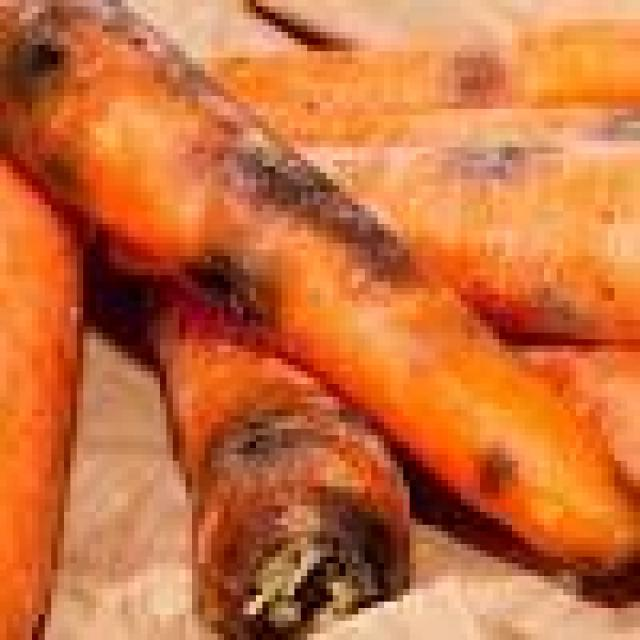Stale_Carrot: (138, 282, 409, 640), (286, 115, 640, 350), (209, 6, 640, 132)
